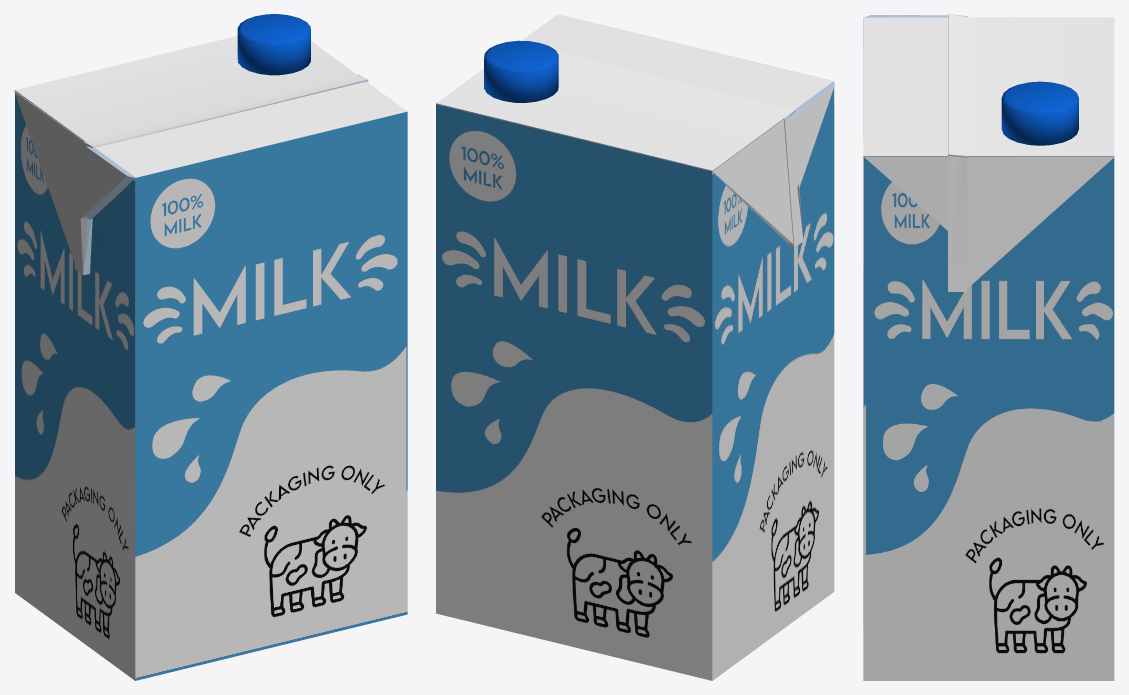
File: MILK.obj
3 renders of one model, left to right at view 1: azimuth 30°, elevation 25°; view 2: azimuth 150°, elevation 25°; view 3: azimuth 270°, elevation 25°, orthographic. The views are drawn at different scales.
Visible parts, largest first — view 1: obj_0, obj_0.001; view 2: obj_0, obj_0.001; view 3: obj_0, obj_0.001.
Part boxes in pixels (x1=…): obj_0: x1=14, y1=36, x2=407, y2=680; obj_0.001: x1=237, y1=14, x2=310, y2=75; obj_0: x1=436, y1=14, x2=834, y2=680; obj_0.001: x1=484, y1=40, x2=558, y2=102; obj_0: x1=863, y1=14, x2=1114, y2=680; obj_0.001: x1=1001, y1=81, x2=1078, y2=145.
Size of the model in its own units: 184 by 320 by 130.
